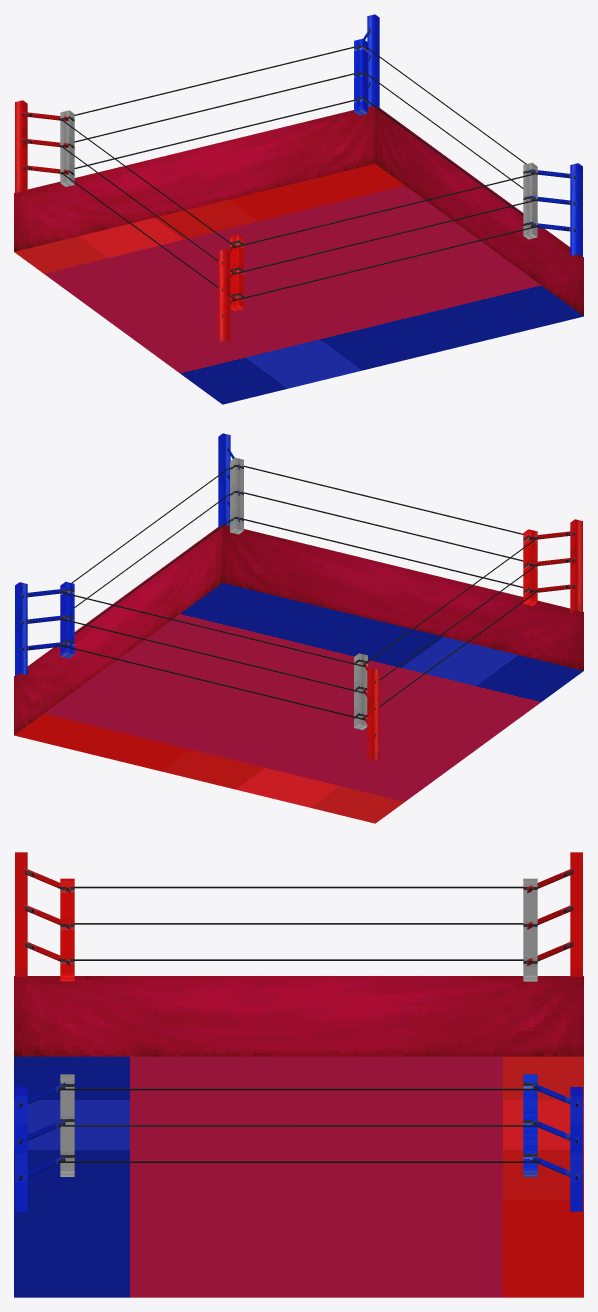
Rendered from ps2_save-icons_kingofcolosseumshinnipponxzennipponxpancrase.glb.
3 renders of one model, top to bottom at view 1: azimuth 30°, elevation 25°; view 2: azimuth 150°, elevation 25°; view 3: azimuth 270°, elevation 25°, orthographic. The views are drawn at different scales.
Visible parts, largest first — view 1: static.ico; view 2: static.ico; view 3: static.ico.
Boxes of the visible parts, x1,y1,x2,y2 form: static.ico: [14, 14, 583, 404]; static.ico: [14, 433, 583, 823]; static.ico: [14, 852, 583, 1297].
Size of the model in its own units: 3.84 by 1.52 by 3.84.
Materials: 1 (1 with a texture image).
